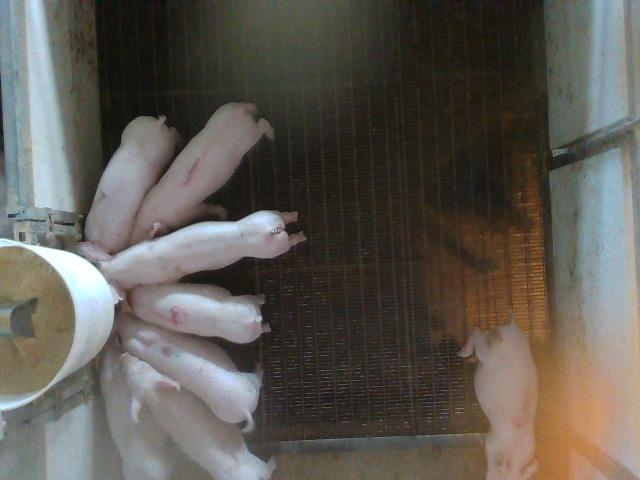pig-1: (130, 104, 274, 244)
pig-3: (460, 316, 538, 478)
pig-4: (128, 284, 270, 343)
